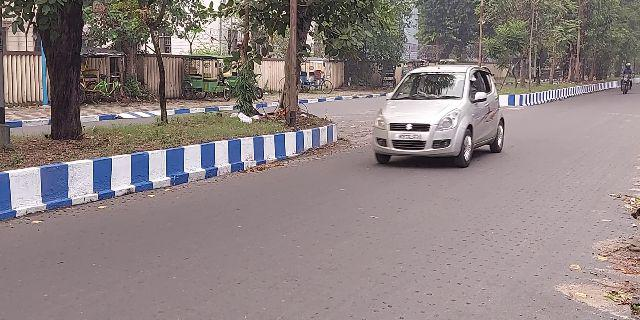Car: (369, 60, 515, 171)
Motorbike: (614, 56, 638, 98)
